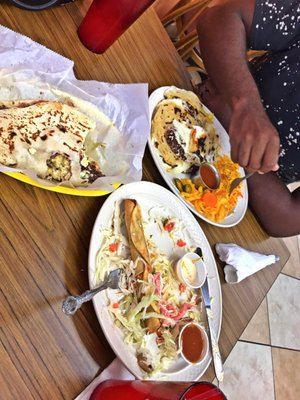burger: (61, 268, 123, 316)
salad: (62, 269, 122, 316)
